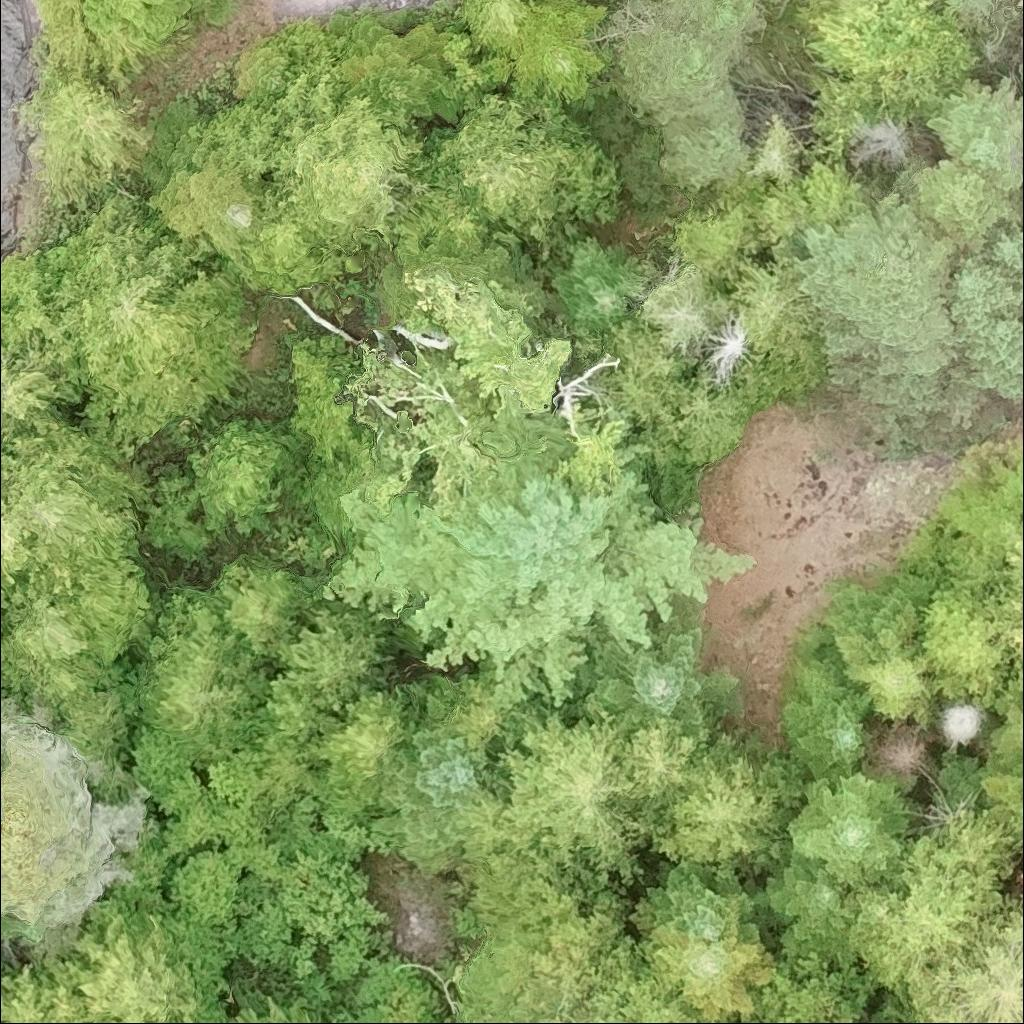crown: (318, 453, 759, 709), (44, 191, 252, 453), (793, 195, 961, 431), (0, 699, 148, 943), (853, 806, 1021, 990), (498, 692, 652, 883), (426, 90, 590, 256), (263, 95, 428, 254), (360, 697, 508, 873), (576, 596, 744, 735), (0, 411, 143, 571), (801, 0, 980, 121), (135, 592, 270, 748), (626, 892, 776, 1023), (645, 735, 790, 862), (826, 576, 947, 727), (784, 758, 923, 886), (138, 129, 274, 259), (899, 885, 1023, 1023), (53, 909, 200, 1023), (322, 15, 460, 124), (613, 18, 746, 130), (272, 599, 397, 716), (305, 684, 416, 812), (896, 155, 1023, 254), (756, 845, 859, 967), (184, 418, 288, 535), (779, 649, 871, 778), (916, 584, 1014, 705), (640, 359, 749, 467), (926, 75, 1023, 191), (43, 558, 150, 663), (503, 0, 611, 103), (602, 316, 701, 427), (644, 857, 767, 945), (547, 227, 646, 335), (729, 255, 822, 362), (933, 442, 1023, 550), (652, 99, 750, 195), (617, 716, 712, 813), (638, 267, 738, 358), (591, 948, 708, 1023), (0, 570, 95, 662), (228, 209, 328, 295), (217, 567, 303, 659), (0, 649, 106, 718), (943, 316, 1023, 403), (415, 170, 493, 257), (0, 341, 66, 440), (944, 251, 1023, 323), (559, 138, 620, 225), (653, 0, 768, 46), (0, 959, 70, 1023), (842, 882, 907, 949), (229, 36, 294, 101), (700, 316, 759, 387), (847, 114, 917, 173), (459, 0, 531, 49), (0, 498, 30, 595), (1000, 535, 1023, 656), (935, 700, 985, 751), (988, 697, 1023, 763), (979, 224, 1023, 275), (936, 0, 992, 39), (258, 997, 323, 1023), (210, 1008, 258, 1023), (0, 606, 11, 664), (1014, 760, 1023, 799), (0, 961, 11, 987), (761, 0, 785, 7), (1017, 187, 1023, 212), (1020, 56, 1023, 82), (785, 1020, 797, 1023), (908, 1020, 914, 1023)
